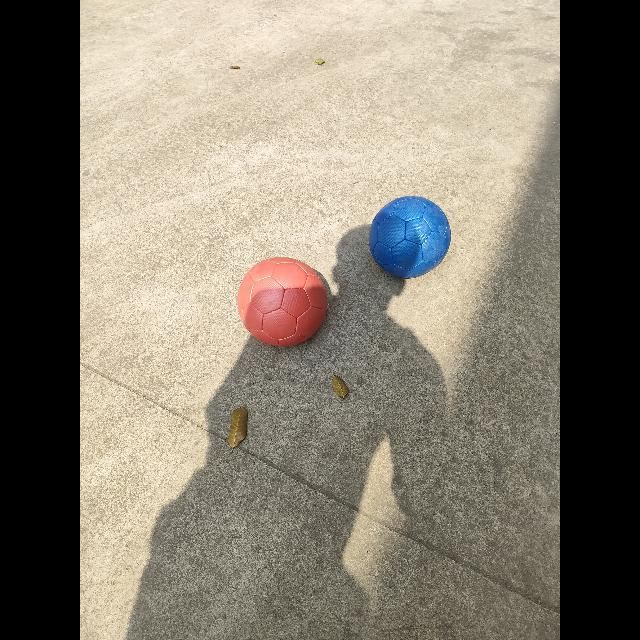B: (368, 197, 452, 282)
R: (236, 258, 330, 350)
